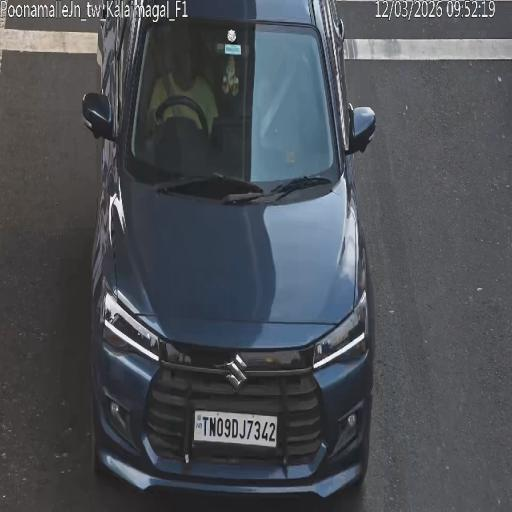person_with_seatbelt: (260, 60, 298, 130), (155, 46, 182, 126)
